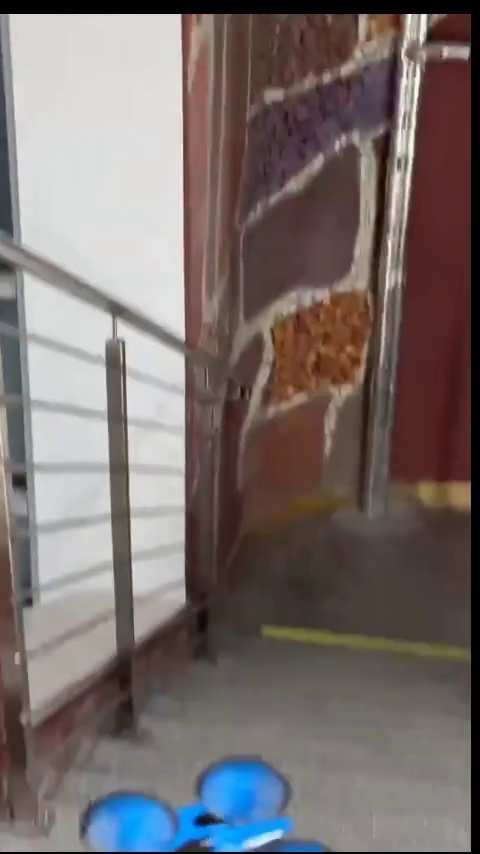drone: (74, 754, 345, 850)
